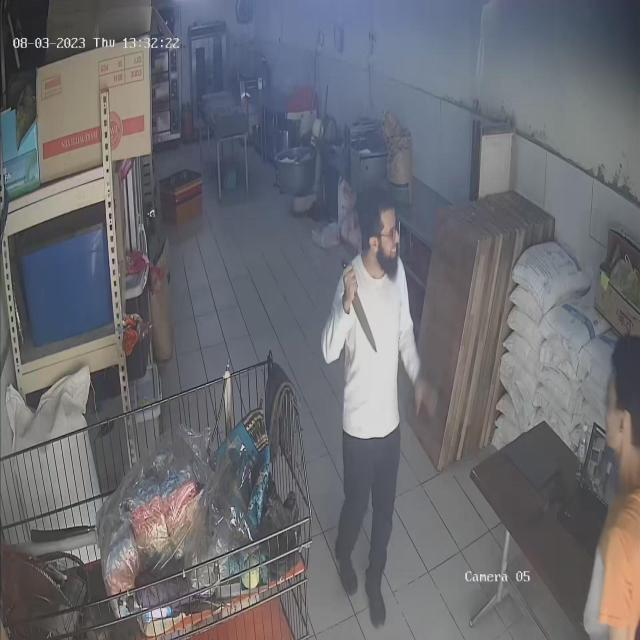Knife: (341, 267, 382, 348)
